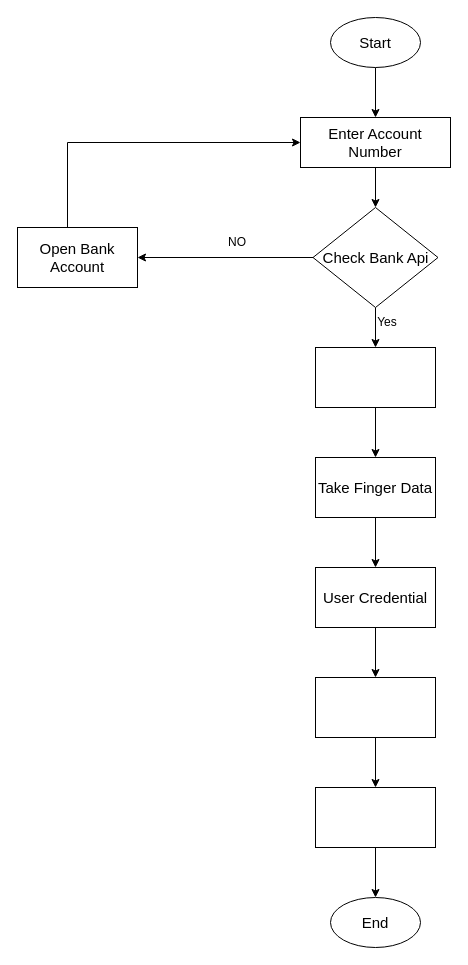
This 468x965 diagram has some shape labels left out. The box of each missing label's shape, as (x1, y1, x2, y2) in pixels:
Assign Customer Nominee: (314, 786, 436, 848)
Assign Locker: (314, 676, 436, 738)
Get customer KYC details via Bank API: (314, 346, 436, 408)
